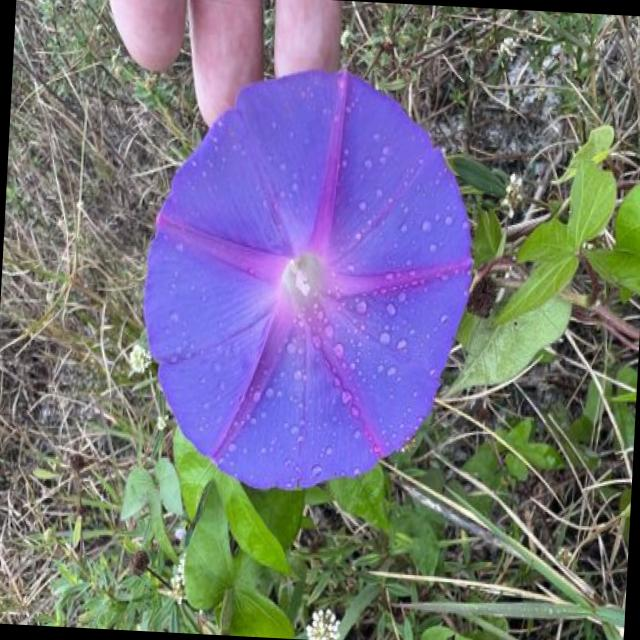ipomoea: (130, 56, 488, 504), (302, 602, 347, 640)
